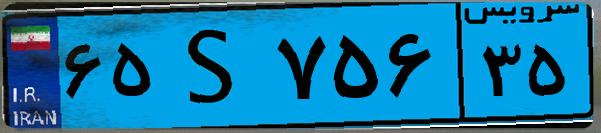3: (475, 38, 525, 113)
5: (330, 28, 385, 110), (525, 38, 570, 115), (110, 28, 158, 98)
6: (385, 28, 445, 110), (57, 26, 110, 100)
7: (270, 28, 330, 110)
S: (158, 12, 270, 120)
